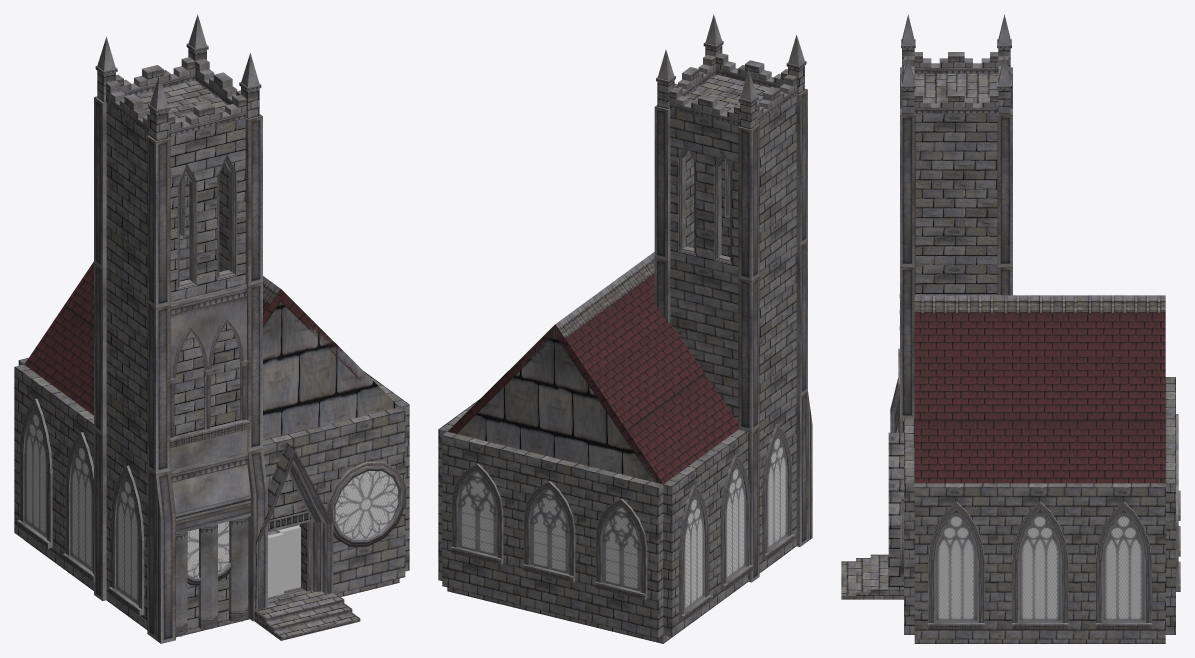
The model's file is VillageChurch.fbx.
The picture shows the model from 3 angles, left to right: view 1: azimuth 30°, elevation 25°; view 2: azimuth 150°, elevation 25°; view 3: azimuth 270°, elevation 25°; orthographic projection. The views are drawn at different scales.
Parts seen in each view (by area): view 1: VillageChurch; view 2: VillageChurch; view 3: VillageChurch.
Boxes of the visible parts, left/top/right/bottom form: VillageChurch: left=14, top=14, right=409, bottom=643; VillageChurch: left=438, top=14, right=812, bottom=643; VillageChurch: left=841, top=14, right=1180, bottom=643.
Size of the model in its own units: 2697 by 5495 by 3244.
